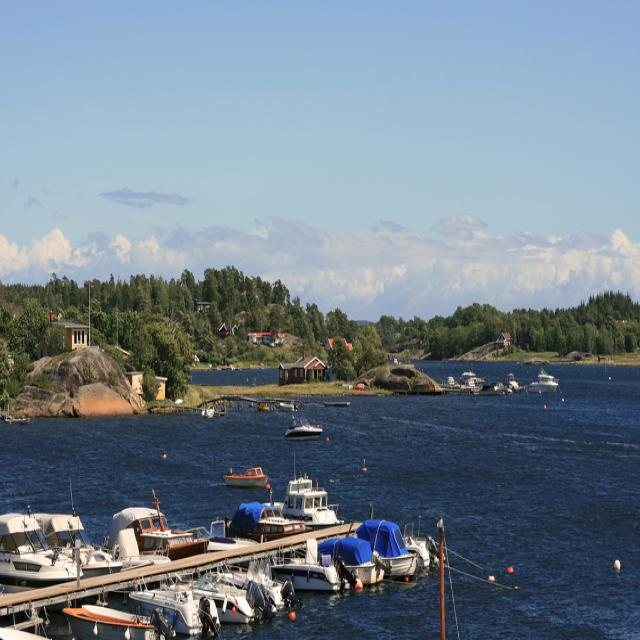Boat: (106, 498, 214, 558), (34, 506, 124, 576), (1, 509, 80, 584), (268, 473, 348, 543), (216, 558, 300, 618), (128, 586, 210, 640), (359, 517, 420, 584), (312, 528, 386, 582), (59, 597, 154, 639), (233, 494, 304, 541), (193, 572, 251, 624), (449, 358, 485, 396), (226, 460, 270, 490), (284, 415, 324, 439), (490, 373, 525, 396), (529, 364, 556, 393)
